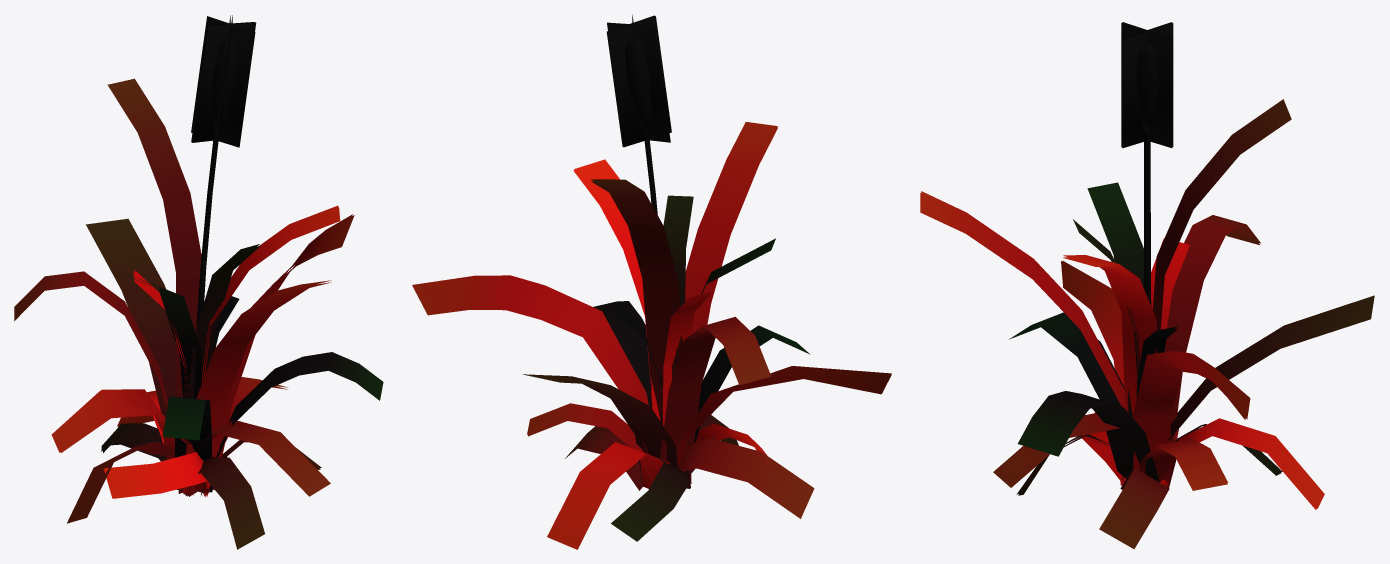
File: Flower02_AFS_high.FBX
3 renders of one model, left to right at view 1: azimuth 30°, elevation 25°; view 2: azimuth 150°, elevation 25°; view 3: azimuth 270°, elevation 25°, orthographic. The views are drawn at different scales.
Parts seen in each view (by area): view 1: Flower02_AFS_high; view 2: Flower02_AFS_high; view 3: Flower02_AFS_high.
Boxes of the visible parts, bbox=[...] form: Flower02_AFS_high: bbox=[14, 15, 383, 549]; Flower02_AFS_high: bbox=[412, 14, 891, 549]; Flower02_AFS_high: bbox=[920, 22, 1374, 548].
Bounding box in the file's own units: 0.6326 × 0.7307 × 0.6076.
